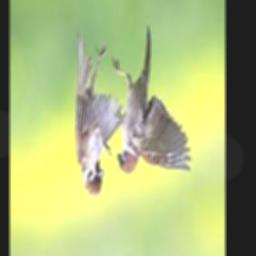Sparrow: (110, 26, 192, 173), (75, 31, 124, 197)
